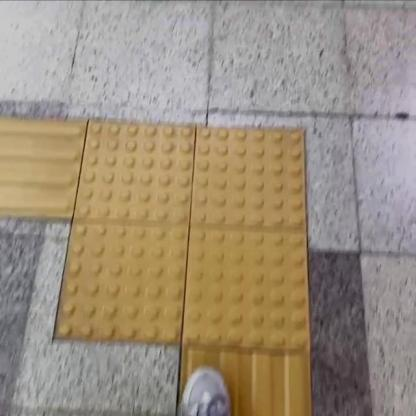podotacti: (35, 92, 332, 386)
